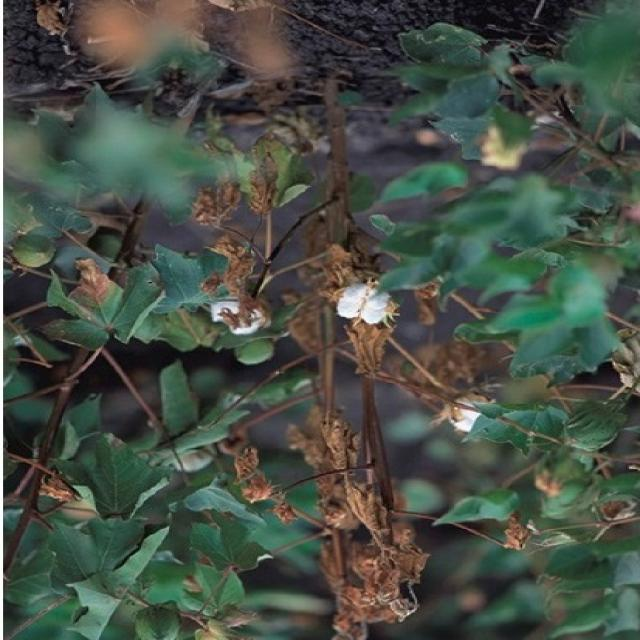Fusarium Wilt: (26, 9, 608, 640)
